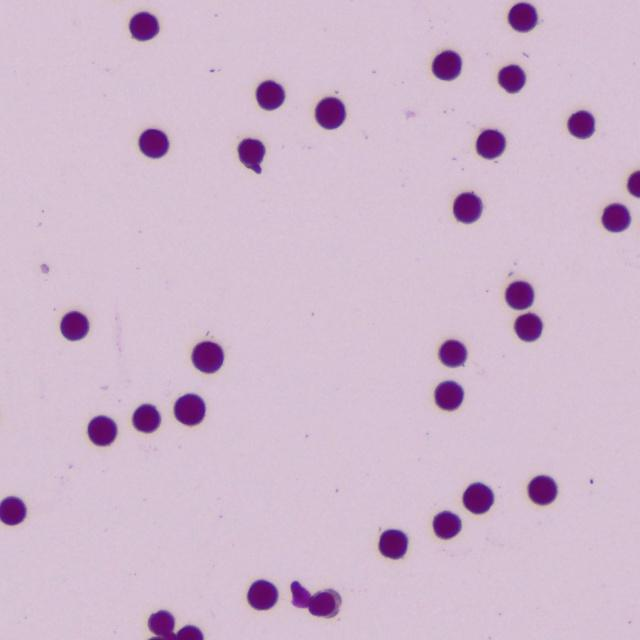viable: (174, 394, 205, 425), (192, 341, 223, 372), (315, 97, 345, 129), (308, 589, 341, 617), (239, 138, 265, 173), (247, 579, 277, 609), (453, 192, 482, 223), (508, 2, 537, 32), (432, 50, 461, 80), (139, 128, 168, 158), (463, 483, 492, 513), (528, 475, 557, 504), (476, 129, 505, 158), (434, 381, 463, 410), (256, 80, 284, 110), (88, 415, 116, 445), (514, 312, 542, 341), (129, 12, 158, 40), (505, 281, 534, 309), (379, 530, 407, 558), (602, 203, 630, 231), (61, 311, 88, 340), (439, 339, 466, 367), (0, 496, 26, 525), (499, 64, 525, 93), (433, 511, 460, 538), (567, 111, 594, 138), (133, 404, 159, 432), (148, 610, 174, 635), (291, 582, 310, 607), (627, 171, 639, 197), (177, 627, 203, 639)
